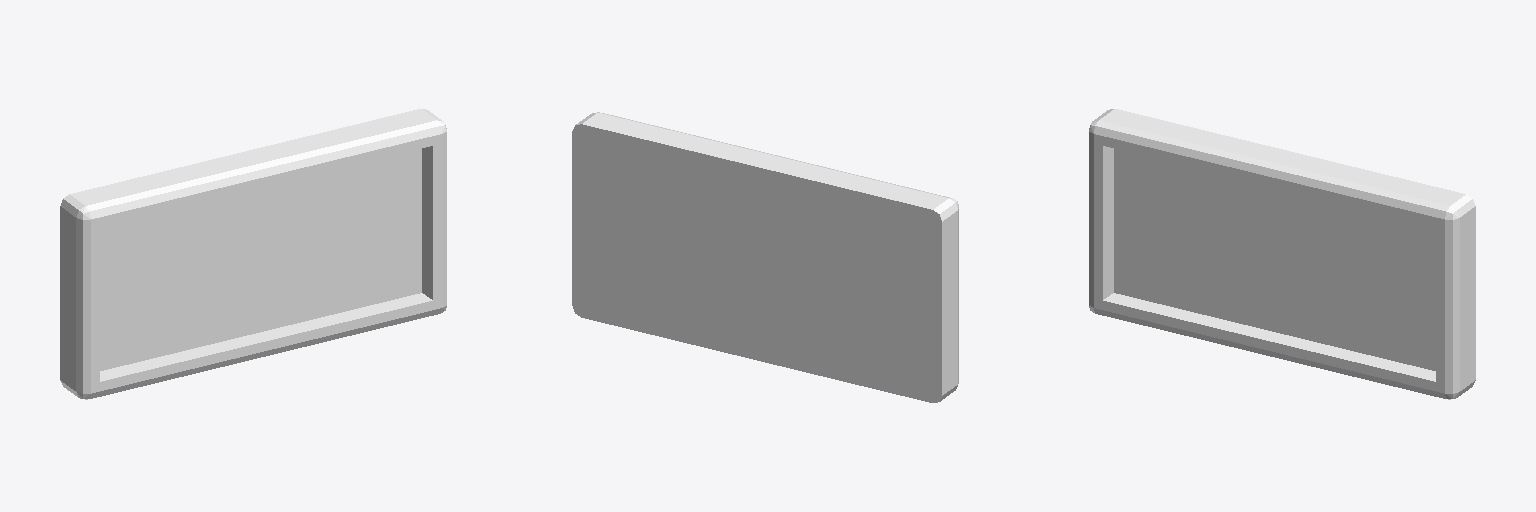
The model's file is wall_sign_large.obj.
The picture shows the model from 3 angles: view 1: azimuth 30°, elevation 25°; view 2: azimuth 150°, elevation 25°; view 3: azimuth 330°, elevation 25°; orthographic projection.
Visible parts, largest first — view 1: wall_sign_large; view 2: wall_sign_large; view 3: wall_sign_large.
Part boxes in pixels (bbox=[...]): wall_sign_large: bbox=[60, 109, 446, 399]; wall_sign_large: bbox=[572, 112, 958, 402]; wall_sign_large: bbox=[1089, 109, 1475, 399].
Bounding box in the file's own units: 2 × 1 × 0.2.